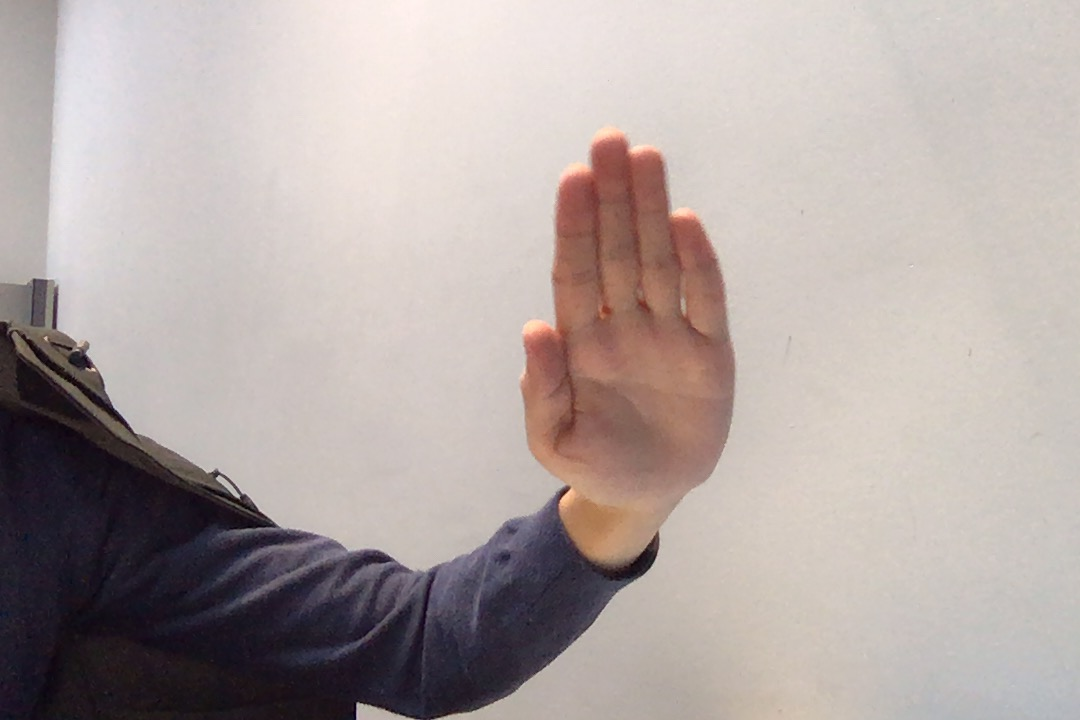palmhand: (498, 108, 767, 521)
